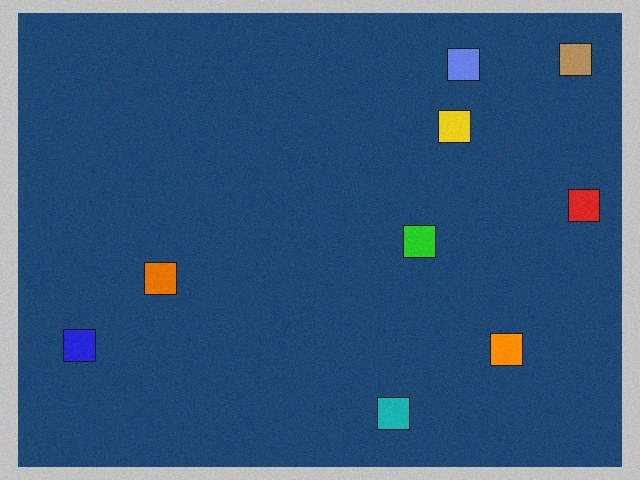block: (547, 44, 592, 84), (64, 325, 108, 362), (481, 329, 523, 366), (441, 49, 479, 89), (555, 189, 600, 222), (374, 389, 409, 430), (432, 110, 470, 147), (144, 261, 184, 295), (399, 225, 435, 257)
